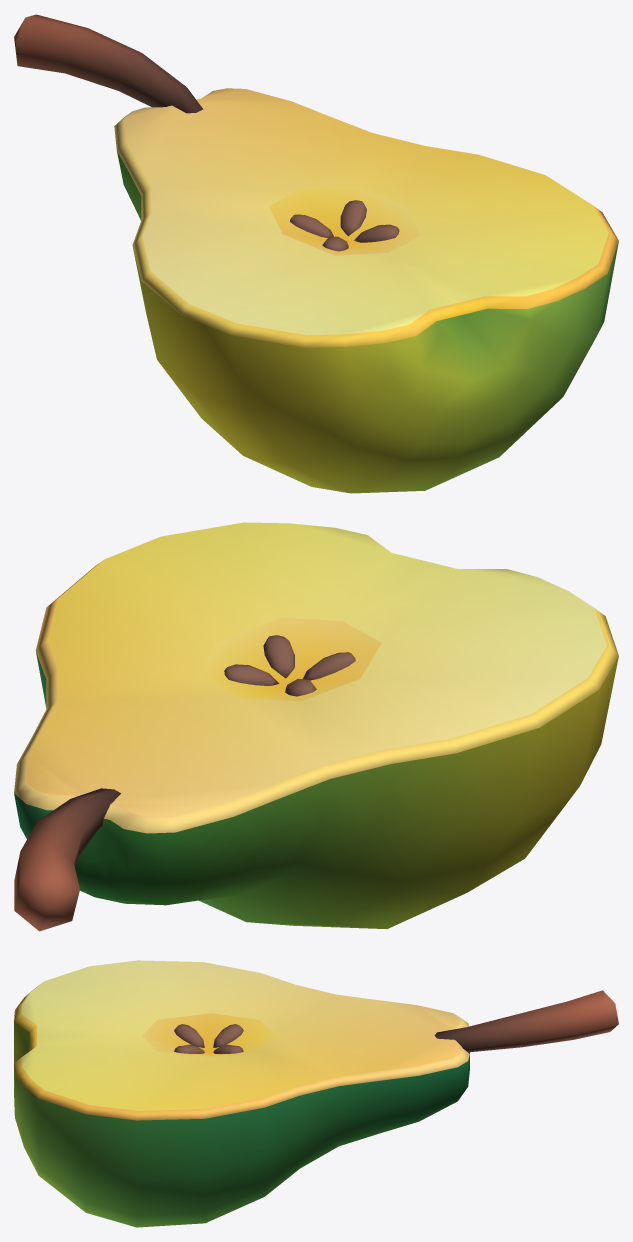
File: pear_003.fbx
3 renders of one model, top to bottom at view 1: azimuth 30°, elevation 25°; view 2: azimuth 150°, elevation 25°; view 3: azimuth 270°, elevation 25°, orthographic. The views are drawn at different scales.
Visible parts, largest first — view 1: pear_003; view 2: pear_003; view 3: pear_003.
Part boxes in pixels (<box>): pear_003: <box>14,14,618,493</box>; pear_003: <box>14,522,618,931</box>; pear_003: <box>14,960,618,1227</box>.
Size of the model in its own units: 8.79 by 14.33 by 5.15.
